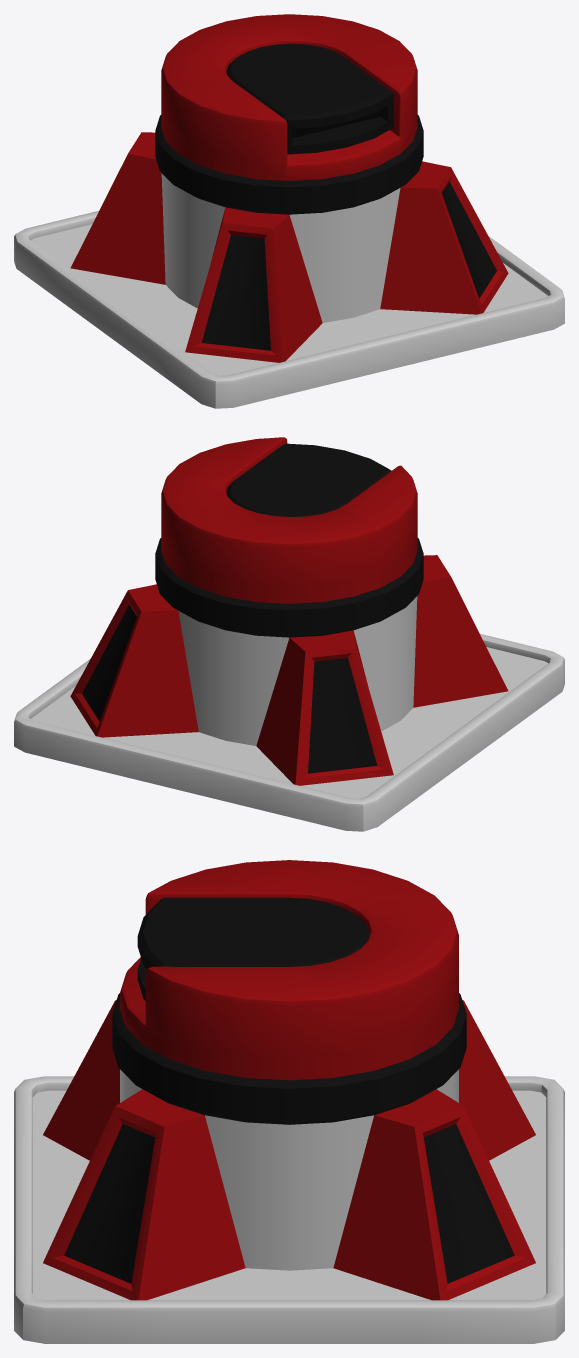
The model's file is GunTurret.fbx.
3 renders of one model, top to bottom at view 1: azimuth 30°, elevation 25°; view 2: azimuth 150°, elevation 25°; view 3: azimuth 270°, elevation 25°, orthographic. The views are drawn at different scales.
Visible parts, largest first — view 1: Base, Turret, Launcher; view 2: Base, Turret, Launcher; view 3: Base, Turret, Launcher.
Part boxes in pixels (x1,y1,x2,y2): Base: [14, 115, 564, 408]; Turret: [161, 14, 417, 180]; Launcher: [226, 43, 393, 154]; Base: [14, 538, 564, 831]; Turret: [161, 437, 417, 603]; Launcher: [226, 443, 391, 516]; Base: [14, 993, 564, 1343]; Turret: [120, 860, 458, 1080]; Launcher: [137, 897, 369, 1000].
Size of the model in its own units: 1 by 0.6199 by 1.
